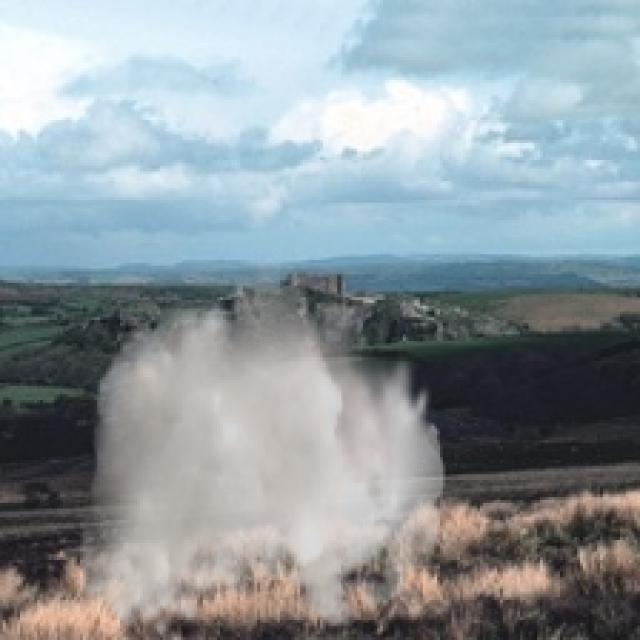smoke: (77, 252, 449, 637)
